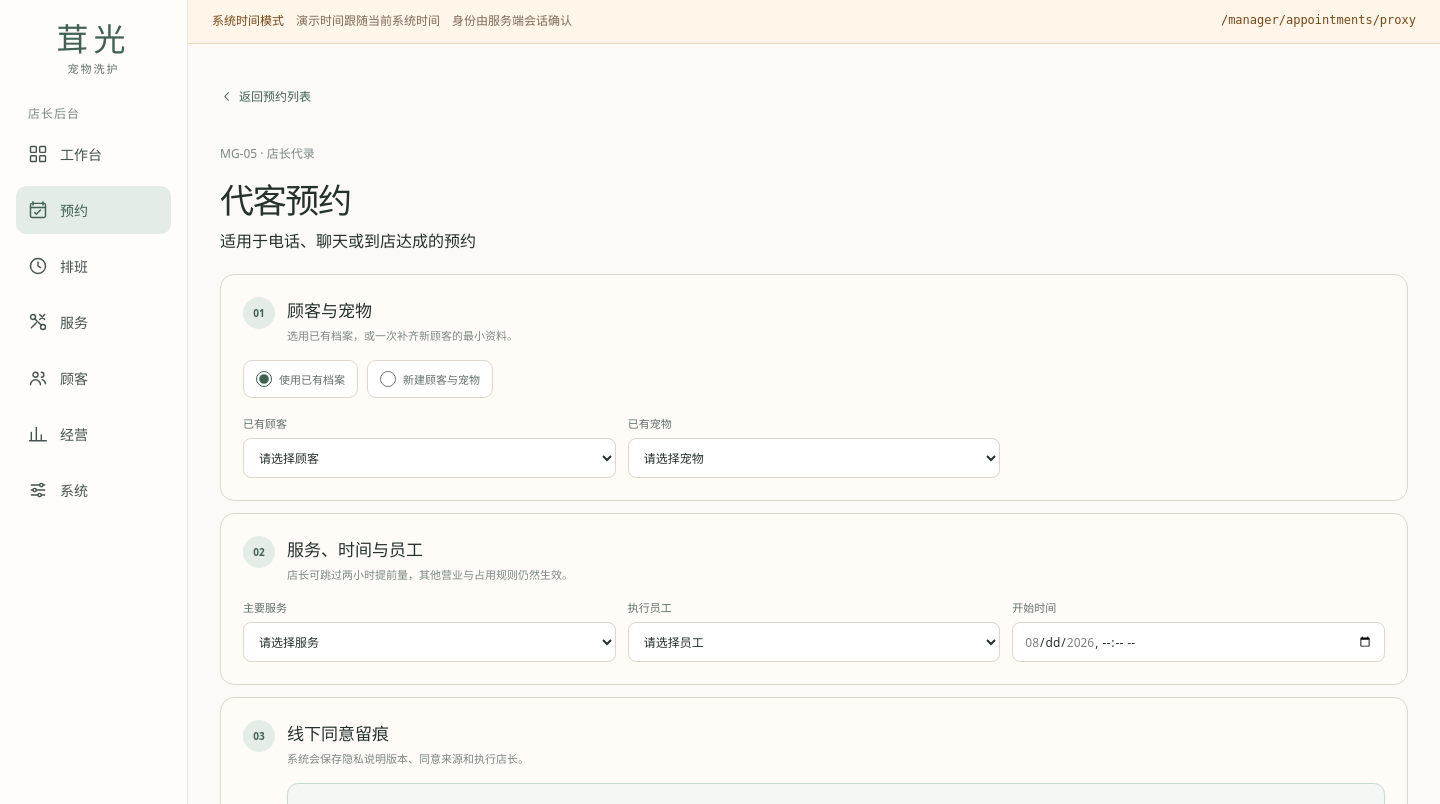
Test case: 店长预约列表与代客预约页面 › MG-05 用已有顾客与宠物代录预约，并显示核销码与详情入口
Expected: the heading "代客预约" is shown, x1=220 y1=177 x2=351 y2=223
Select "许岚 · 138****2608" in the dropdown labelled "已有顾客" at [429, 458], box x1=243 y1=438 x2=616 y2=478
Select "团子 · 犬 · 8.6 kg" in the dropdown labelled "已有宠物" at [814, 458], box x1=628 y1=438 x2=1000 y2=478
Select "犬基础洗护" in the dropdown labelled "主要服务" at [429, 642], box x1=243 y1=622 x2=616 y2=662
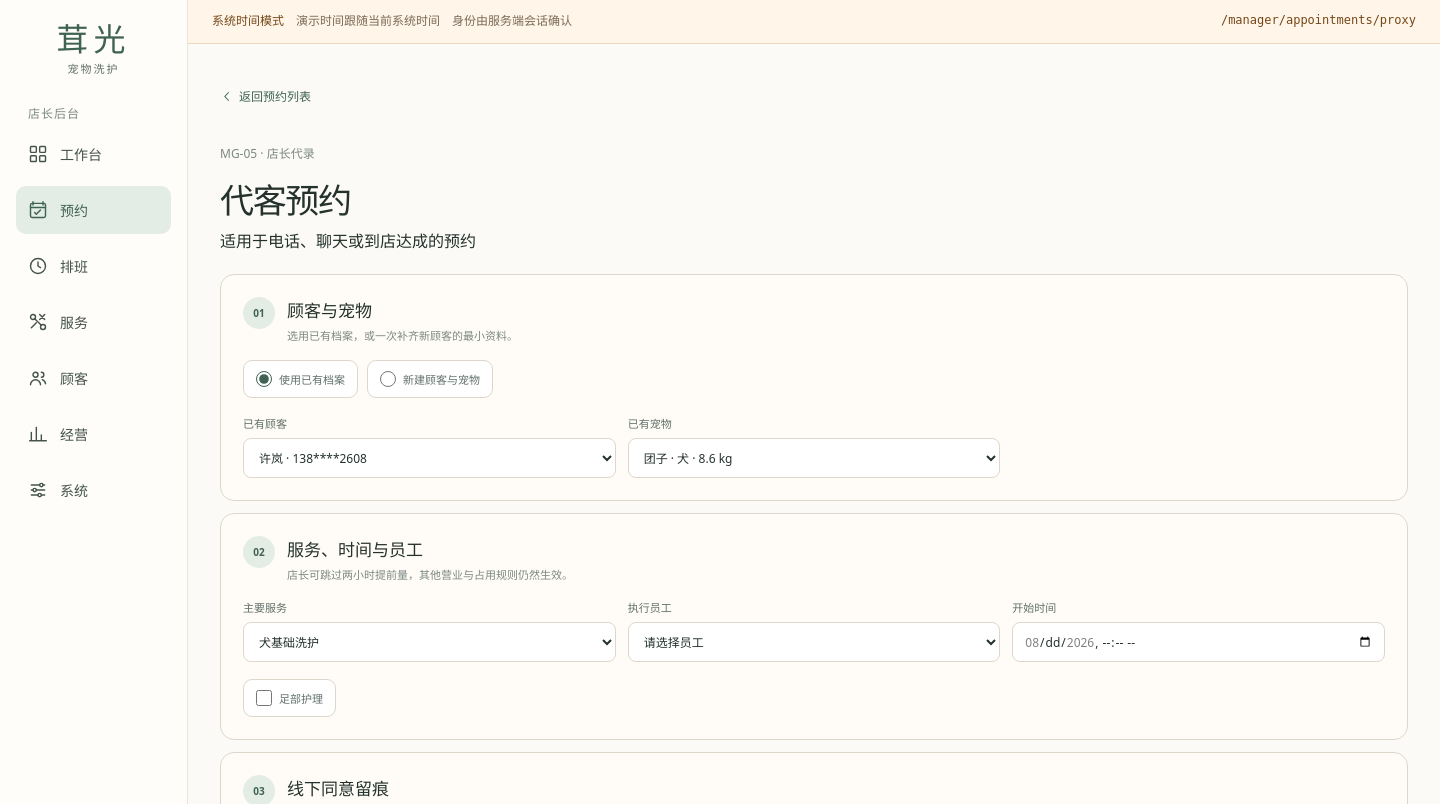
Select "赵航" in the dropdown labelled "执行员工" at [814, 642], box x1=628 y1=622 x2=1000 y2=662
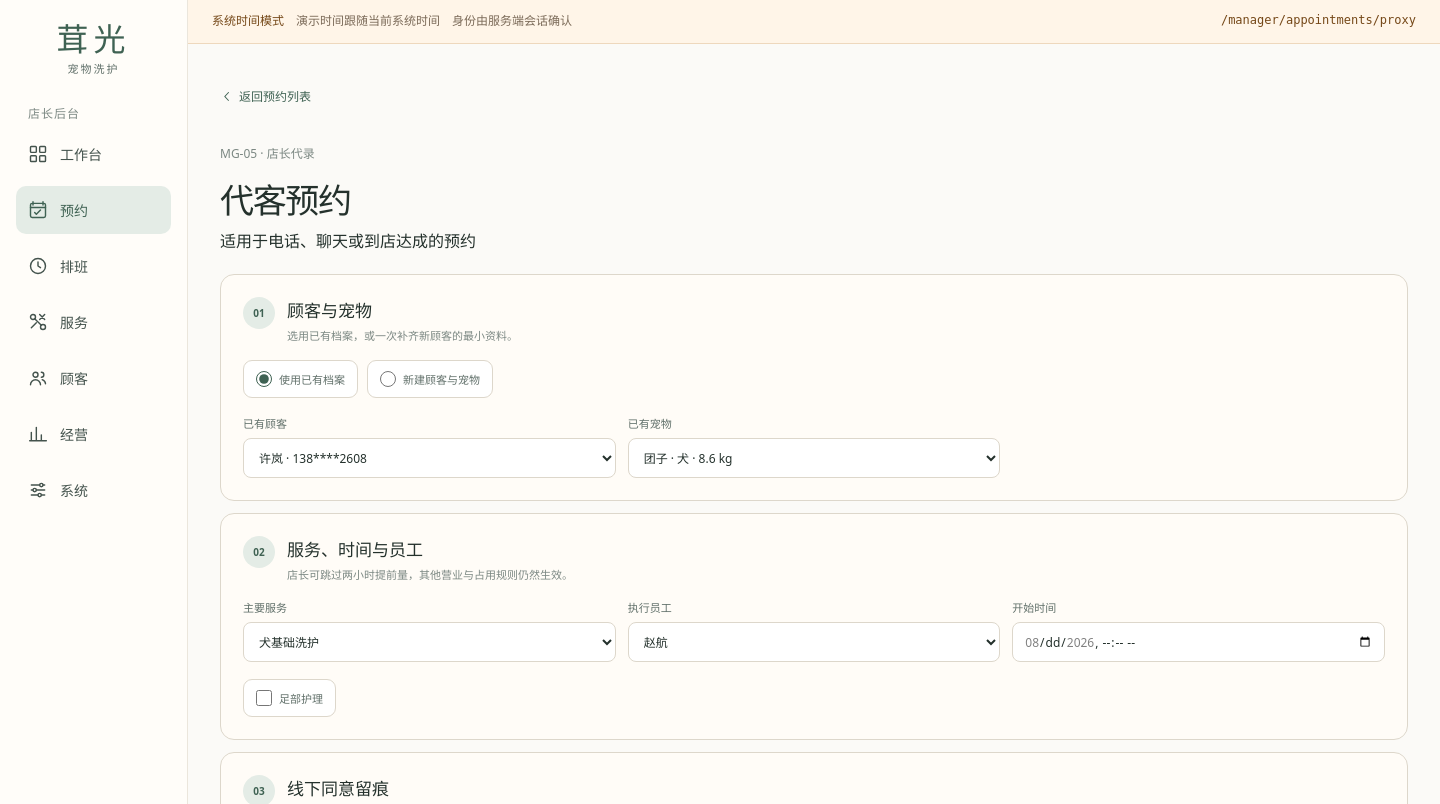
Type "2026-08-13T11:00" into the field labelled "开始时间" at [1199, 642], box x1=1012 y1=622 x2=1385 y2=662
(page scrolled)
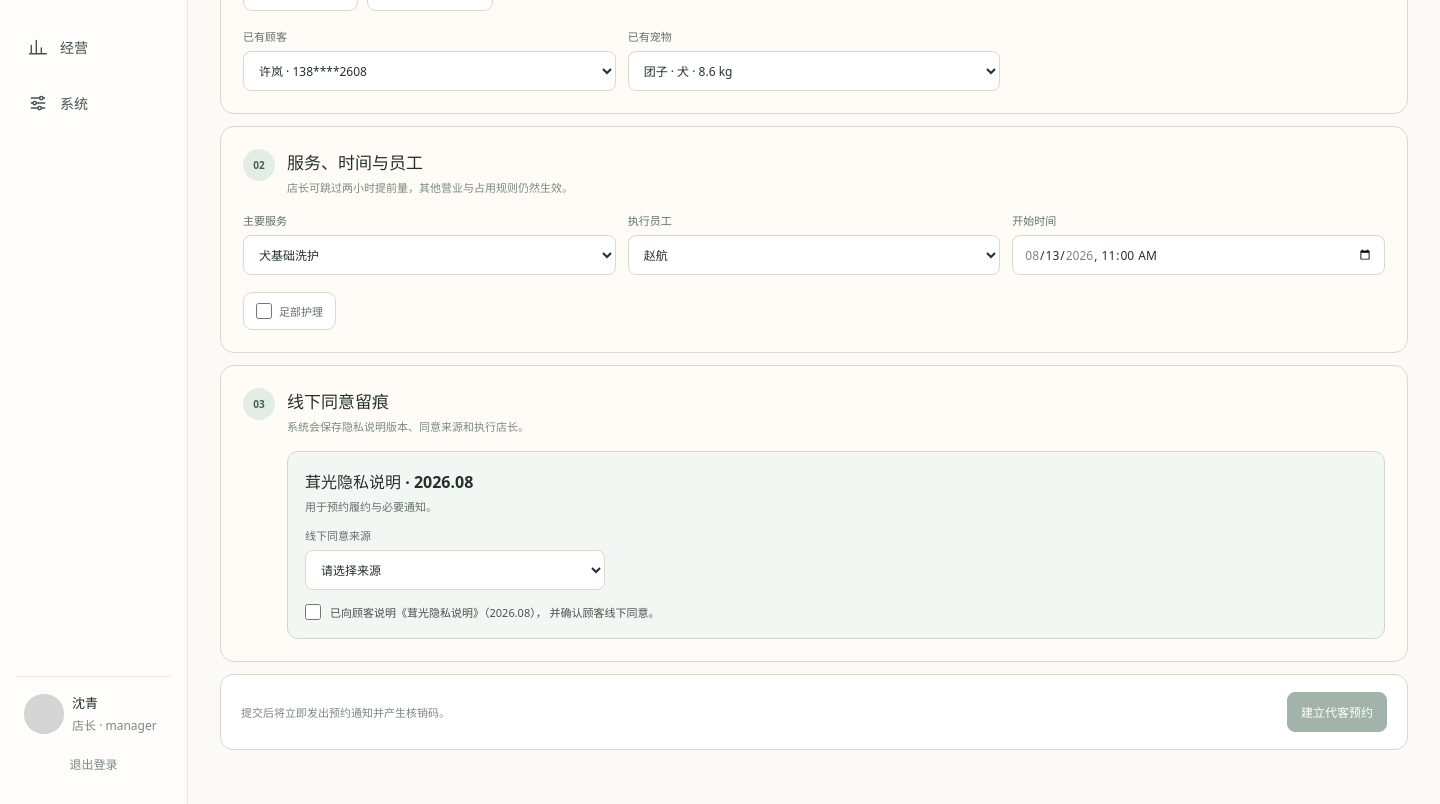
Select "电话" in the dropdown labelled "线下同意来源" at [455, 570], box x1=305 y1=550 x2=605 y2=590
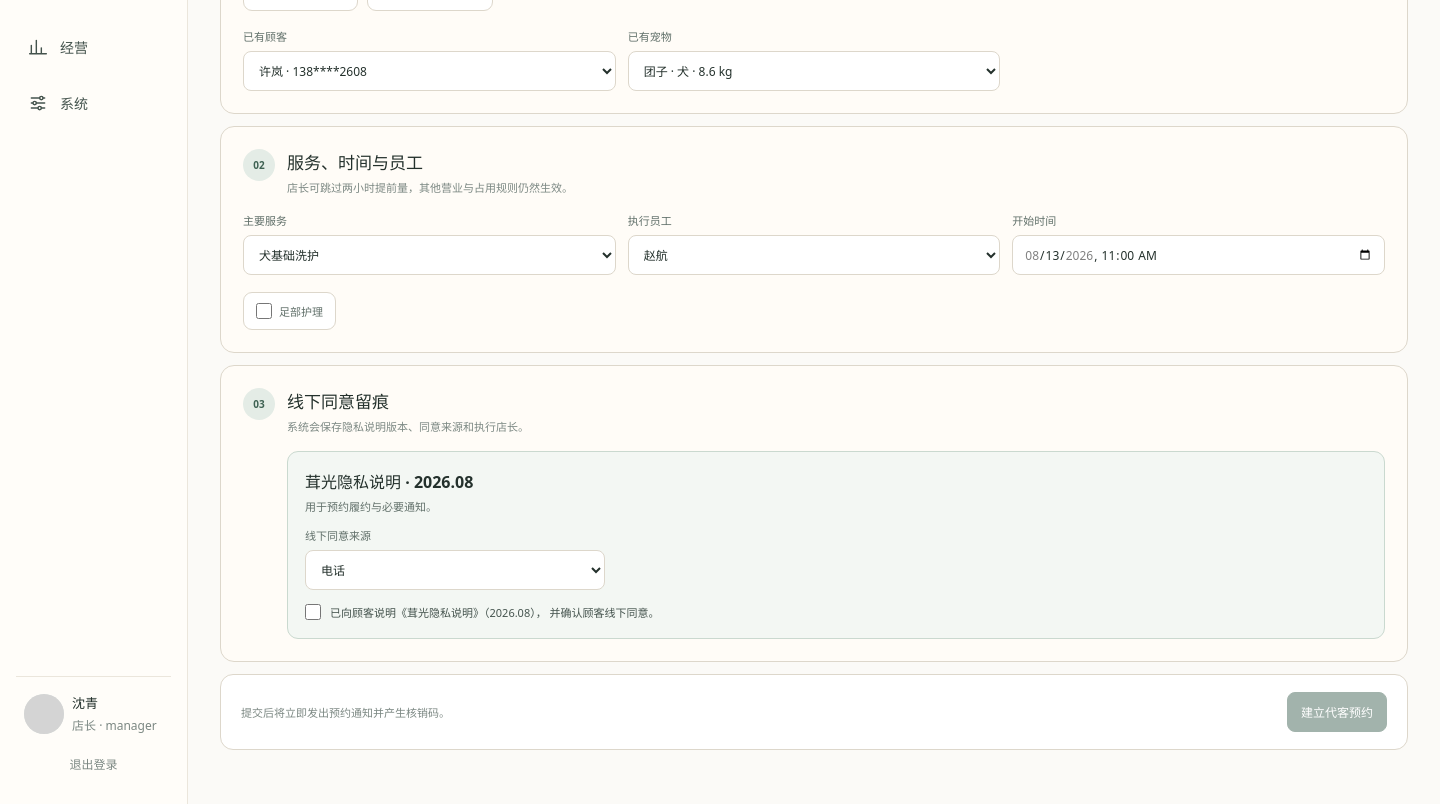
Click the checkbox labelled "已向顾客说明《茸光隐私说明》（2026.08）， 并确认顾客线下同意。" at [313, 612], box x1=305 y1=604 x2=321 y2=620
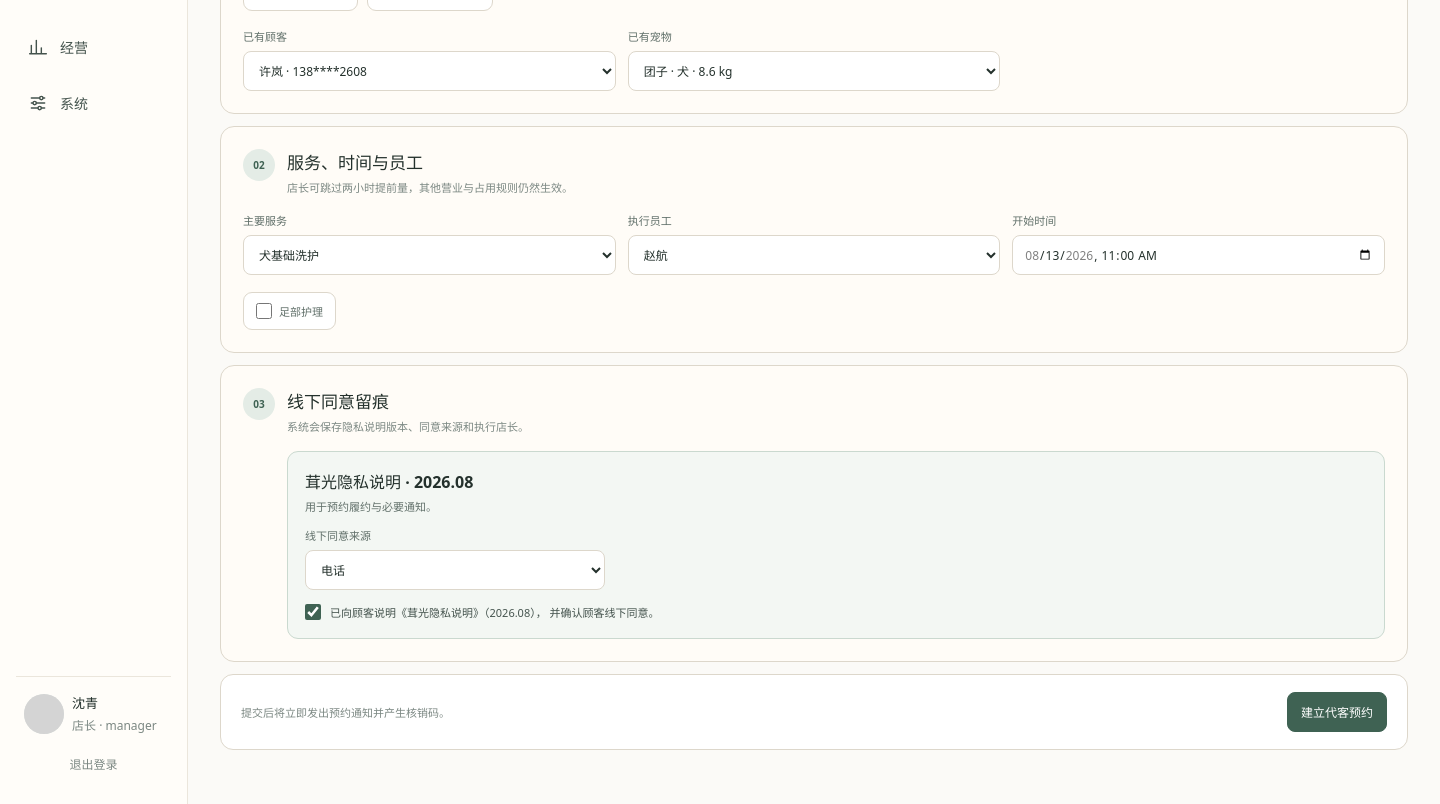
Click the button "建立代客预约" at [1337, 712], box x1=1287 y1=692 x2=1387 y2=732
(page scrolled)
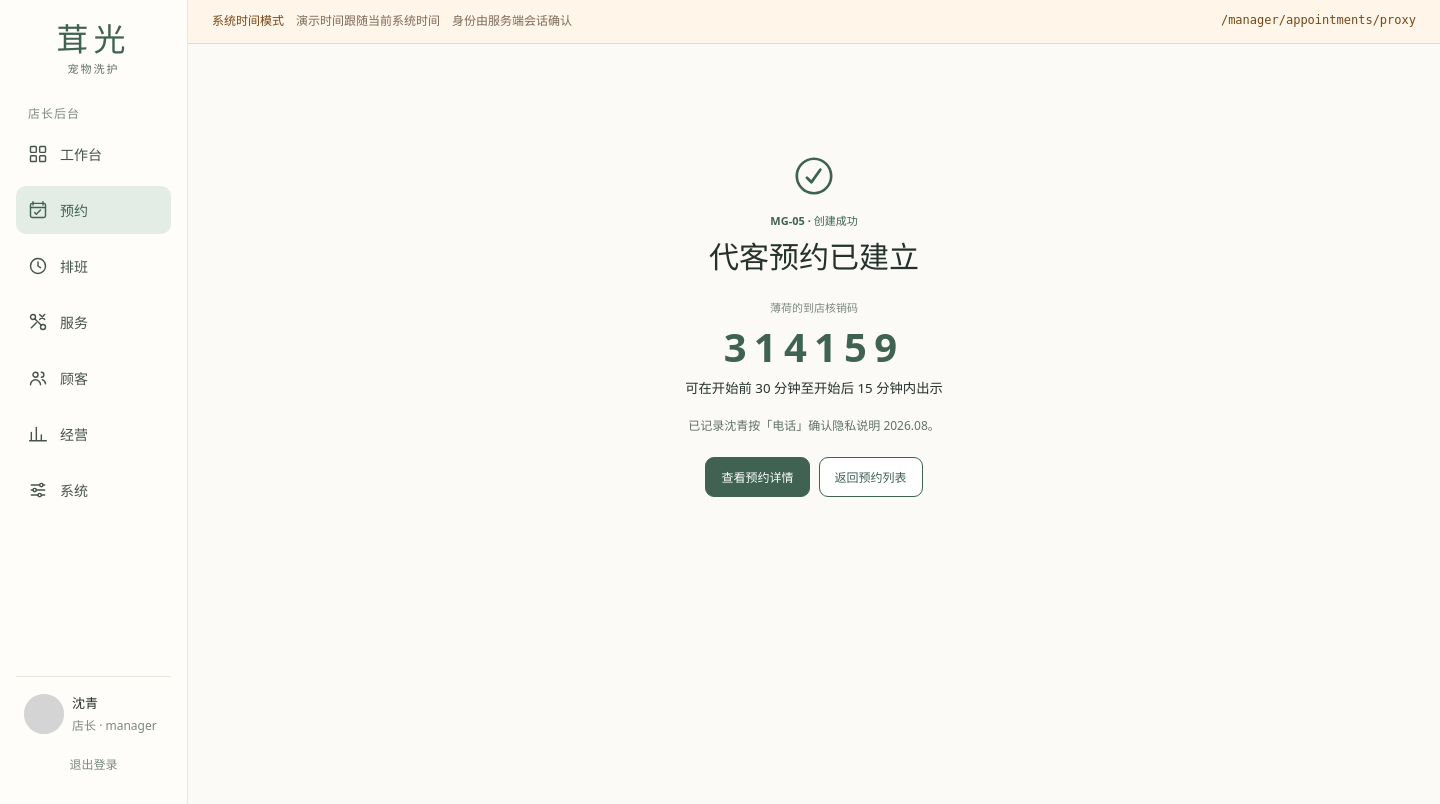
Now the heading "代客预约已建立" is shown, box x1=709 y1=233 x2=919 y2=277
Now the text "314159" is shown, box x1=724 y1=319 x2=904 y2=374
